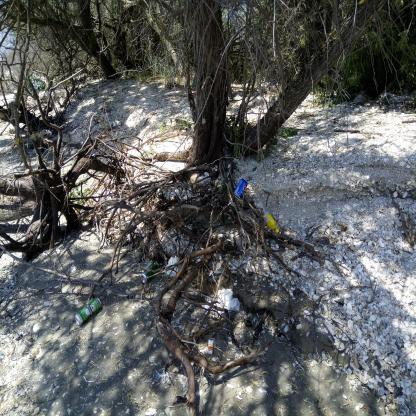metal: (234, 179, 249, 201)
plastik: (257, 200, 281, 235)
